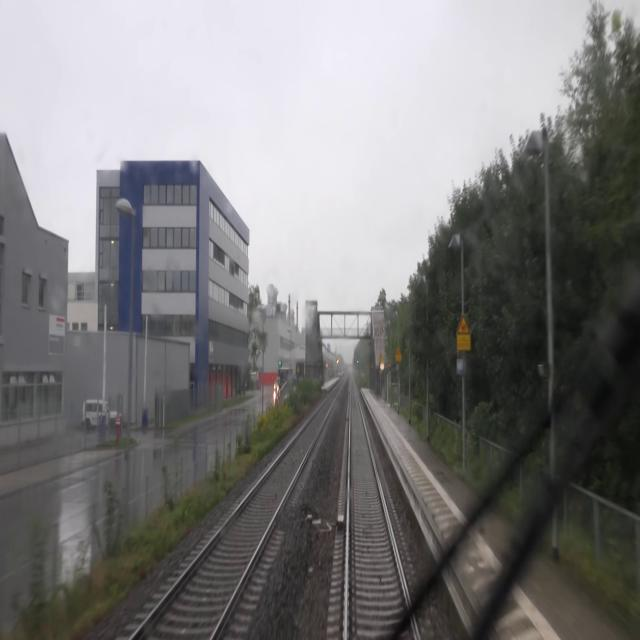rail-track: (136, 391, 337, 639), (348, 387, 405, 639)
